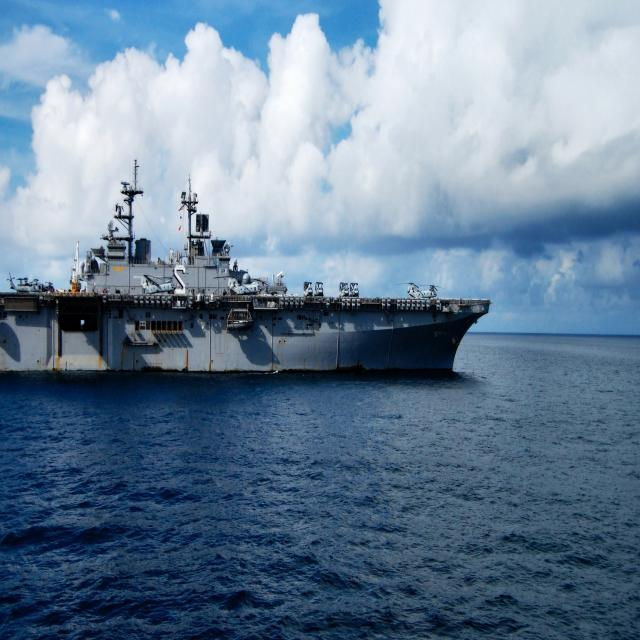navalvessels: (0, 138, 494, 402)
